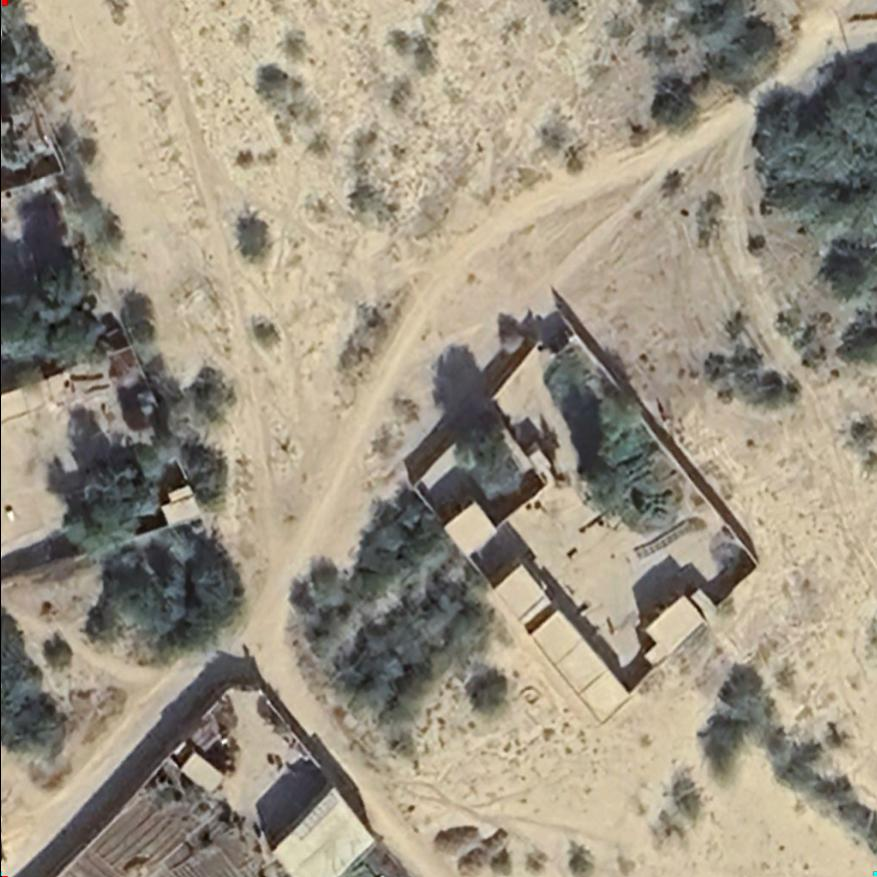Solarpanel: (631, 516, 698, 564)
